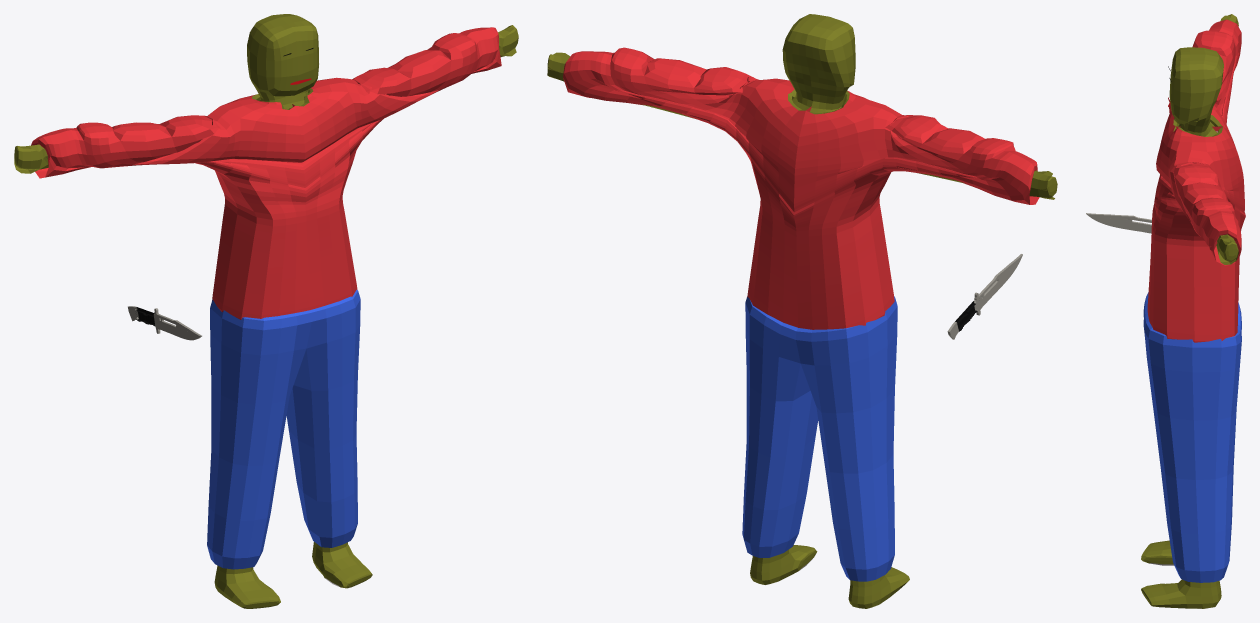
The model's file is enemy_novověk.fbx.
The picture shows the model from 3 angles, left to right: view 1: azimuth 30°, elevation 25°; view 2: azimuth 150°, elevation 25°; view 3: azimuth 270°, elevation 25°; orthographic projection. The views are drawn at different scales.
Visible parts, largest first — view 1: Cube.002, Cube.003, Cube, Plane; view 2: Cube.002, Cube.003, Cube, Plane; view 3: Cube.002, Cube.003, Cube, Plane.
Boxes of the visible parts, box(x1,y1,x2,y2) form: Cube.002: box(14, 27, 516, 319); Cube.003: box(207, 290, 360, 569); Cube: box(14, 14, 518, 608); Plane: box(128, 306, 201, 340); Cube.002: box(547, 47, 1054, 329); Cube.003: box(742, 296, 897, 581); Cube: box(547, 14, 1057, 608); Plane: box(947, 254, 1022, 339); Cube.002: box(1147, 15, 1245, 342); Cube.003: box(1143, 292, 1241, 582); Cube: box(1141, 14, 1238, 608); Plane: box(1086, 213, 1151, 233).
Bounding box in the file's own units: 311 × 333 × 91.29.
